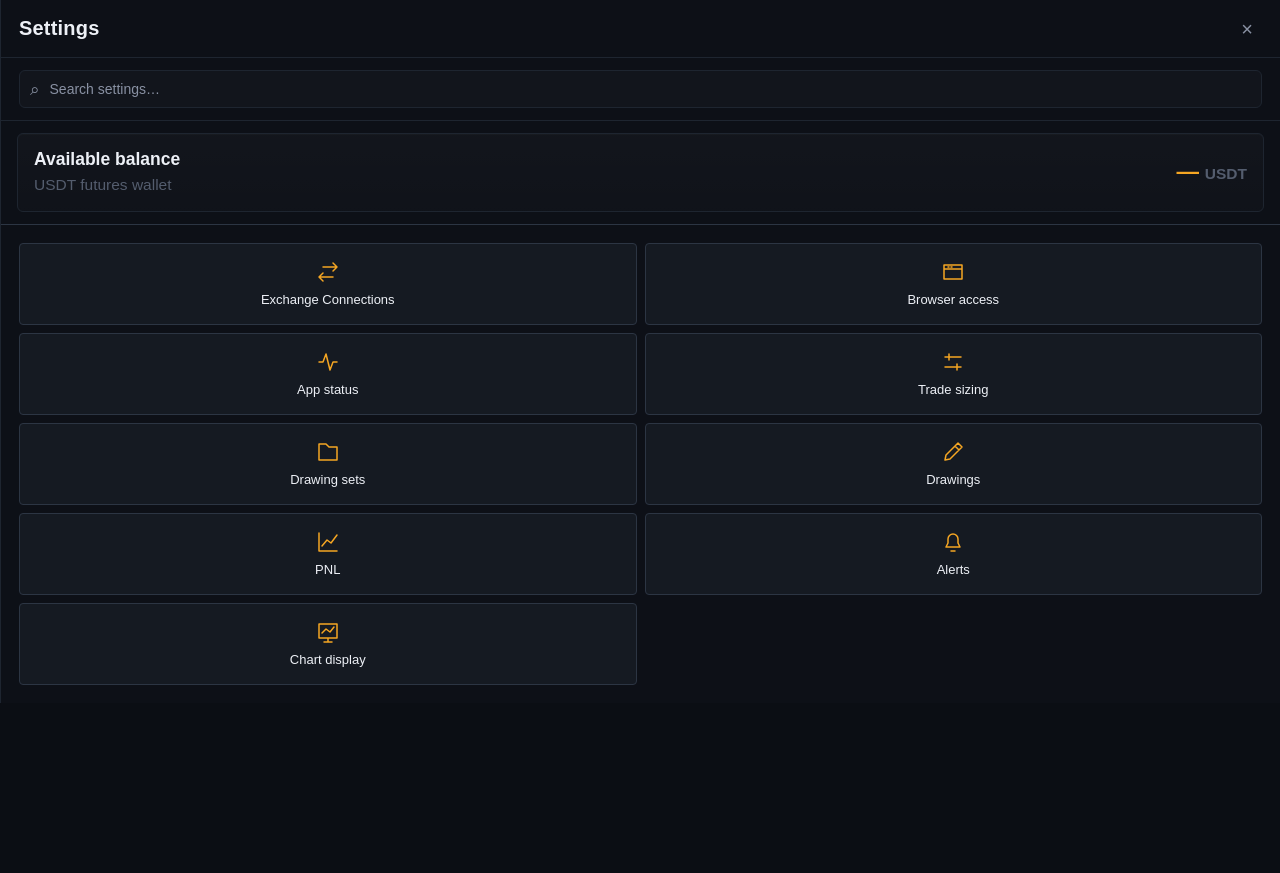
it: Settings section picker › search reveals multiple matches and clearing it restores the selected section
This screenshot has width=1280, height=873.
Click the button "PNL": (328, 554) [19,513,636,595]
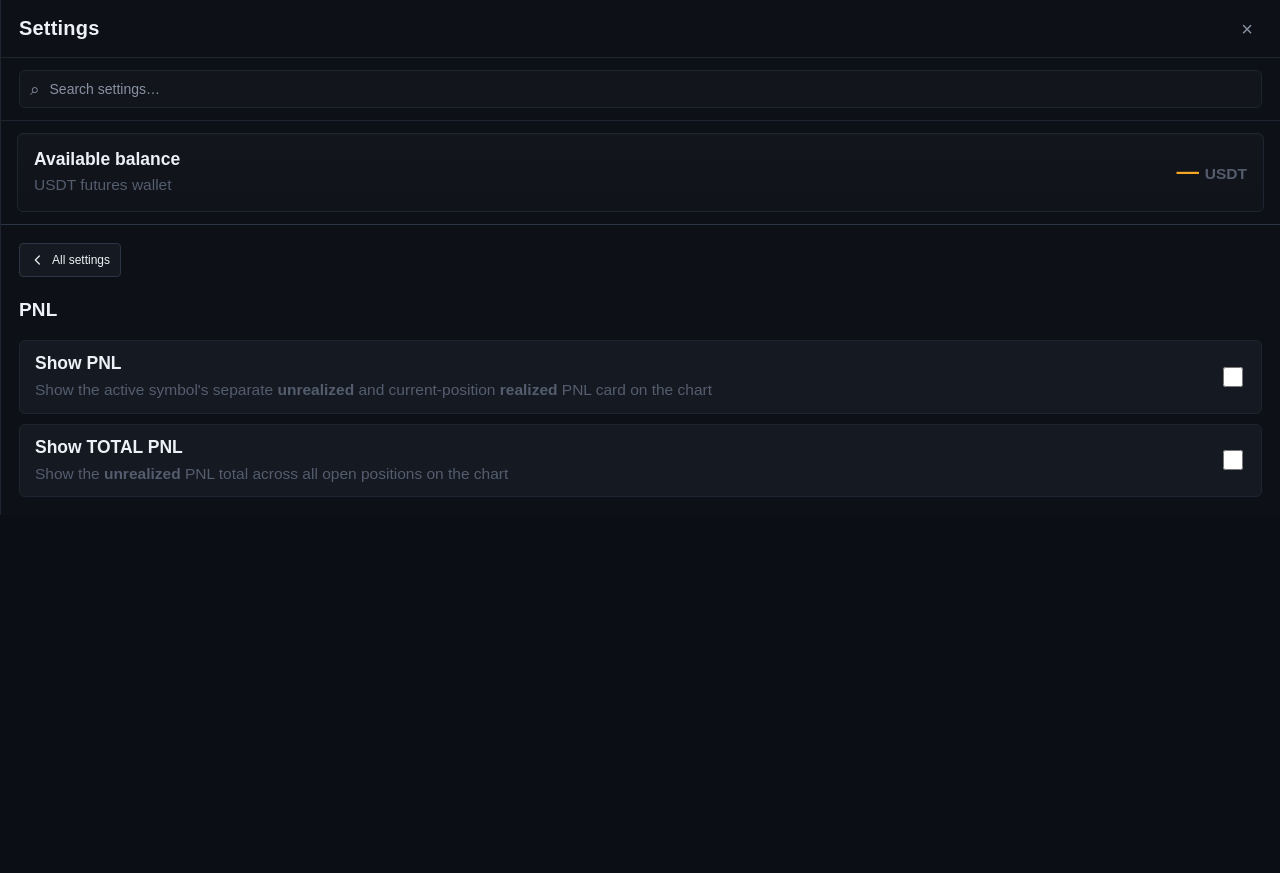
In the search field with placeholder "Search settings…": (649, 89) [48,80,1251,98], type "chart"
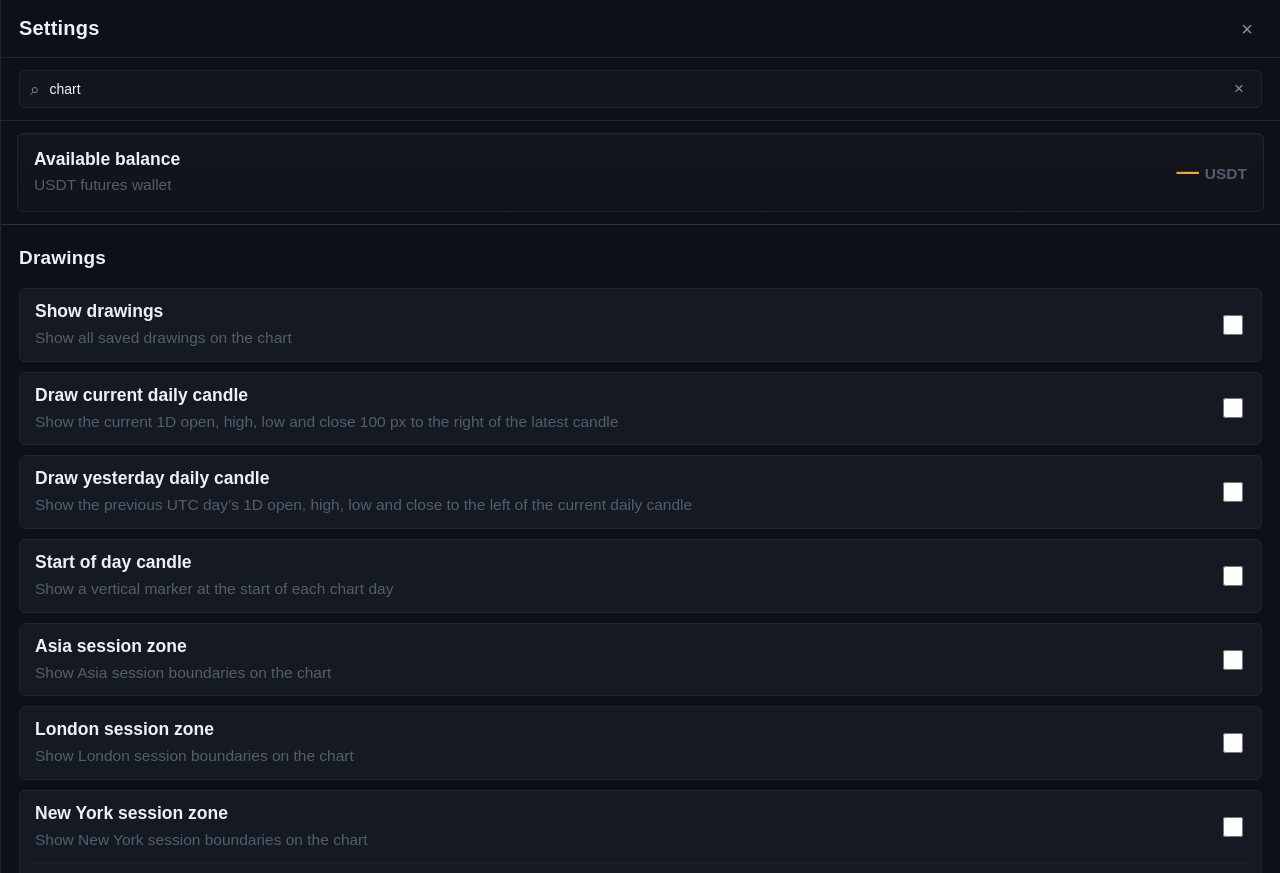
Expected: the element "Available balance" is shown, [17,133,1264,212]
Result: the heading "Drawings" is shown at [19,243,106,274]
Click the button named "Clear settings search": (1239, 89) [1227,77,1251,101]
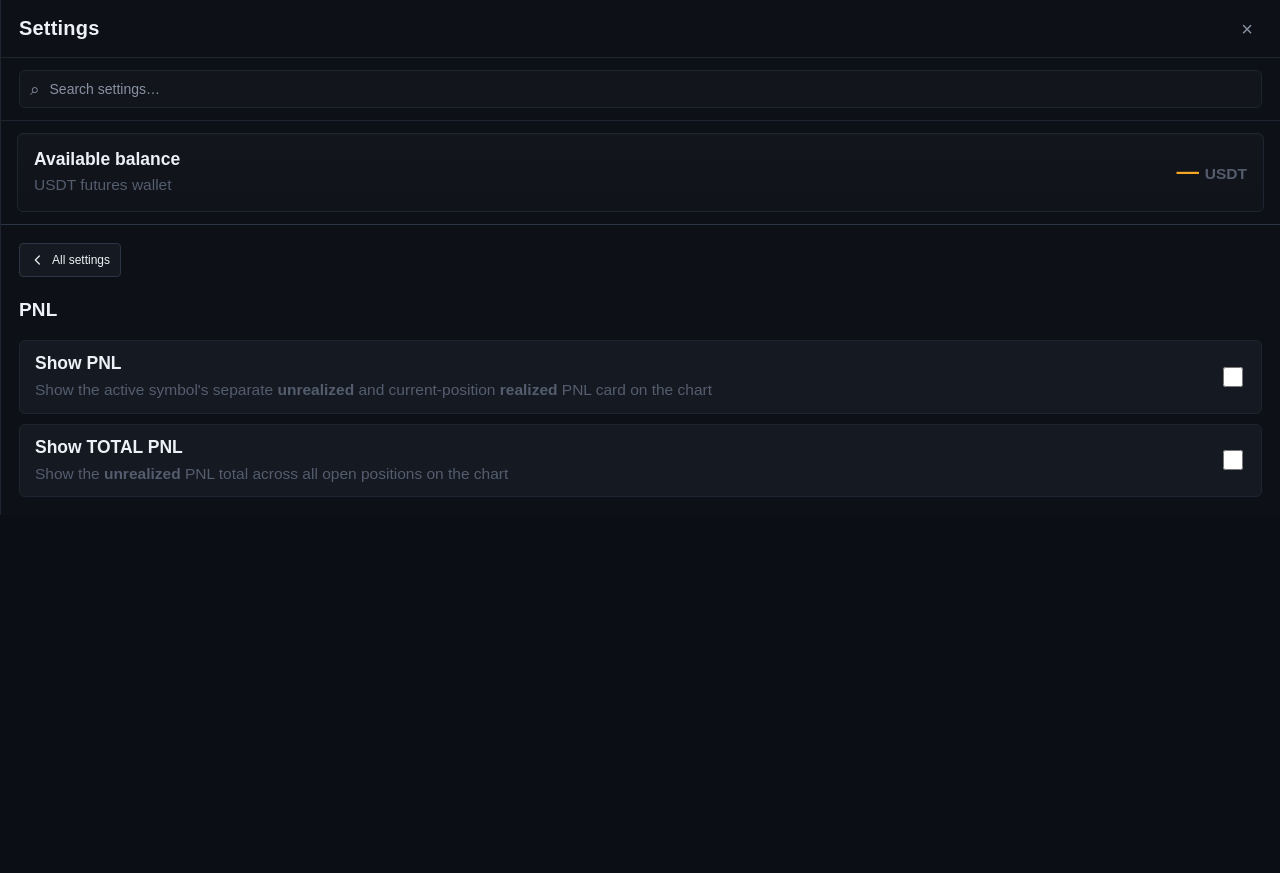
Expected: the button "Chart display" is not shown
Result: the heading "PNL" is shown at [19,295,58,326]
